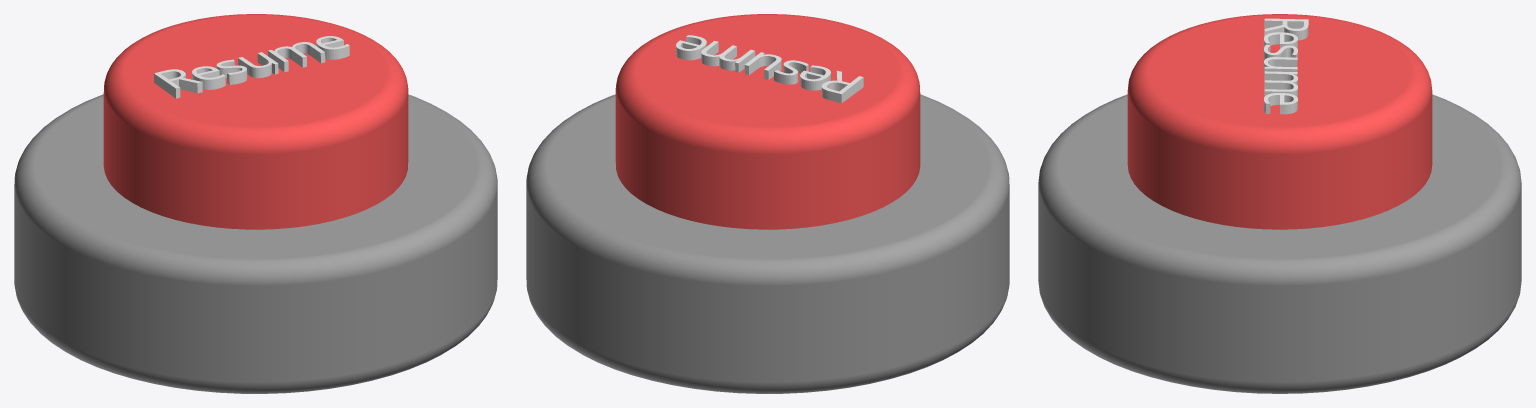
The model's file is Button.gltf.
3 views of the same model, side by side, from view 1: azimuth 30°, elevation 25°; view 2: azimuth 150°, elevation 25°; view 3: azimuth 270°, elevation 25° (orthographic).
Visible parts, largest first — view 1: Cylinder, Cylinder 1, 3D Text - e (×2), 3D Text - m, 3D Text - R, 3D Text - u, 3D Text - s; view 2: Cylinder, Cylinder 1, 3D Text - e (×2), 3D Text - m, 3D Text - R, 3D Text - u, 3D Text - s; view 3: Cylinder, Cylinder 1, 3D Text - e (×2), 3D Text - m, 3D Text - R, 3D Text - u.
Part boxes in pixels (<box>): Cylinder: <box>14,94,497,393</box>; Cylinder 1: <box>103,14,408,229</box>; 3D Text - e (×2): <box>192,36,349,89</box>; 3D Text - m: <box>268,42,325,72</box>; 3D Text - R: <box>153,69,202,98</box>; 3D Text - u: <box>238,52,278,78</box>; 3D Text - s: <box>216,59,247,84</box>; Cylinder: <box>526,94,1009,393</box>; Cylinder 1: <box>615,14,920,229</box>; 3D Text - e (×2): <box>676,35,830,90</box>; 3D Text - m: <box>701,41,755,72</box>; 3D Text - R: <box>821,70,863,103</box>; 3D Text - u: <box>744,52,781,79</box>; 3D Text - s: <box>774,60,808,84</box>; Cylinder: <box>1038,94,1521,393</box>; Cylinder 1: <box>1127,14,1432,229</box>; 3D Text - e (×2): <box>1263,32,1297,114</box>; 3D Text - m: <box>1264,71,1297,97</box>; 3D Text - R: <box>1264,18,1308,40</box>; 3D Text - u: <box>1263,57,1297,73</box>.
Bounding box in the file's own units: 0.094 × 0.0509 × 0.094.
